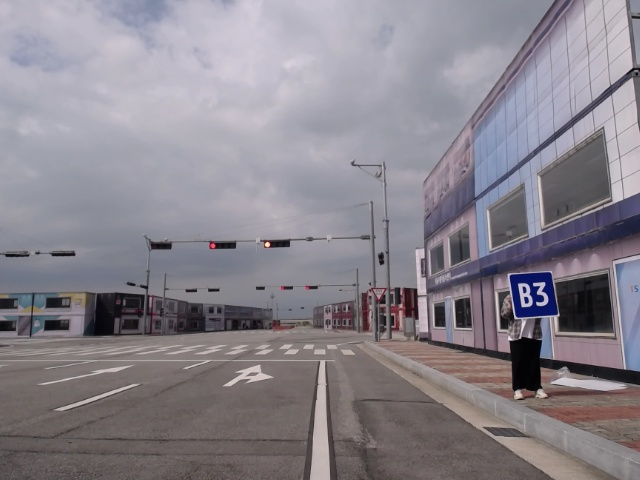delivery_b3: (508, 270, 560, 319)
red_4: (261, 238, 294, 249), (207, 240, 238, 251), (303, 284, 321, 292), (279, 284, 295, 291)
